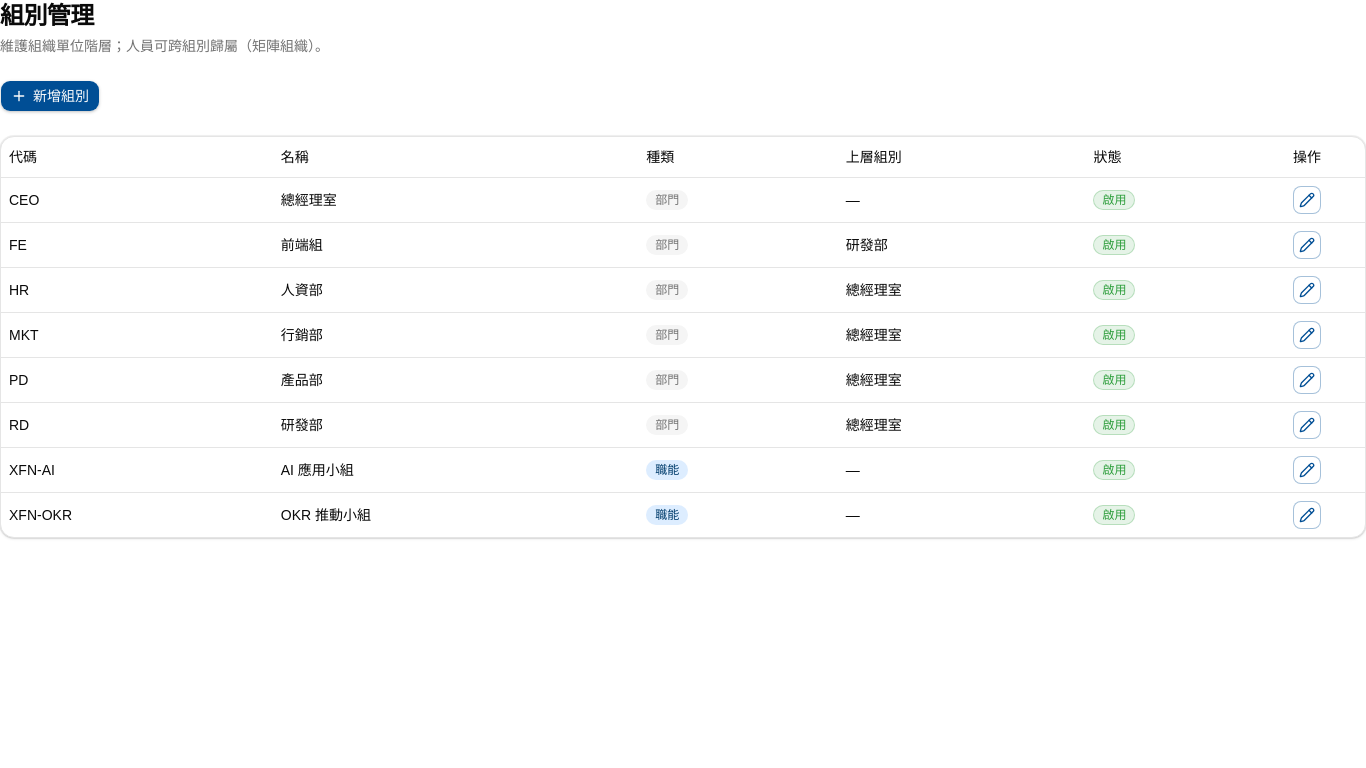
GroupsPage 組別管理 › 點擊「新增組別」會開啟新增表單
This screenshot has width=1366, height=768.
Click the button "新增組別" at (50, 96), box [0,80,100,112]
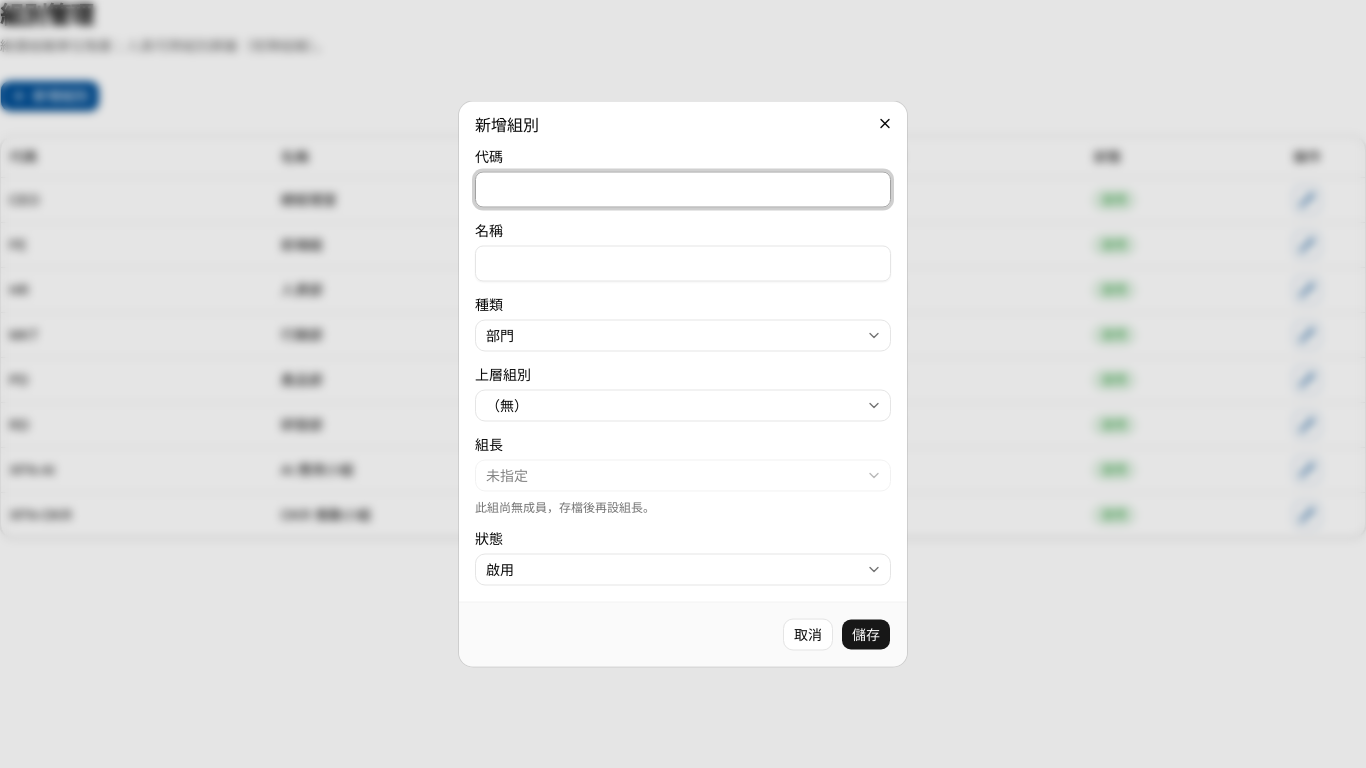
Check: the dialog is shown, box [459,102,907,666]
Check: the heading "新增組別" is shown, box [475,116,539,134]
